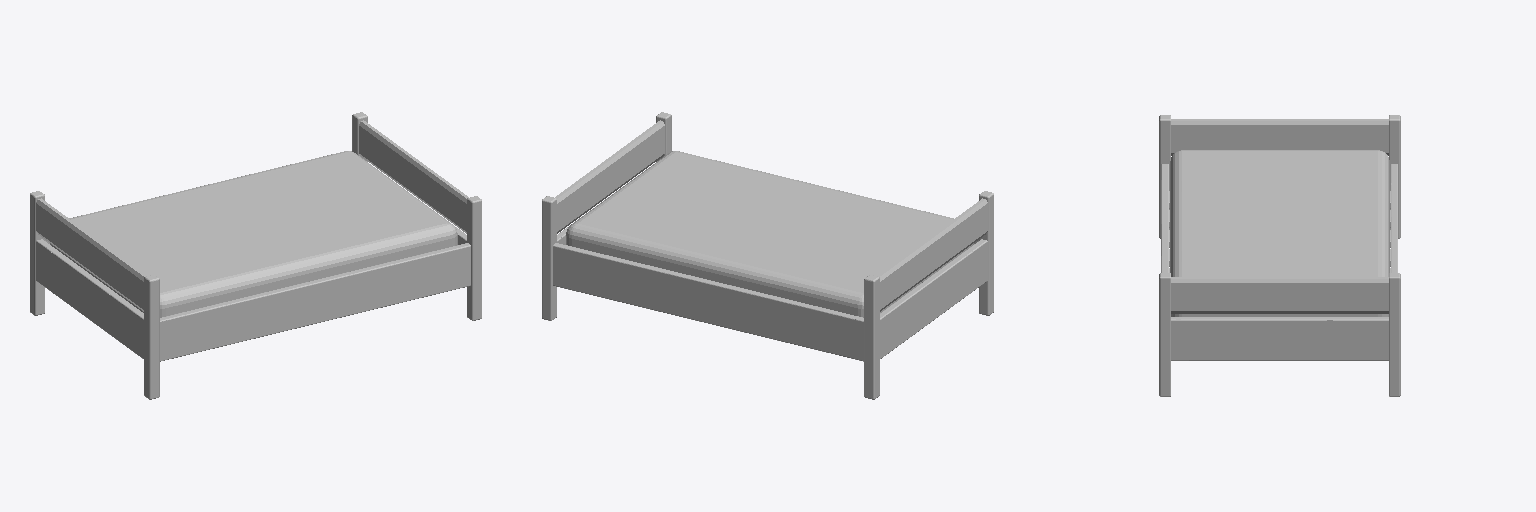
Rendered from bed.obj.
3 renders of one model, left to right at view 1: azimuth 30°, elevation 25°; view 2: azimuth 150°, elevation 25°; view 3: azimuth 270°, elevation 25°, orthographic.
Bounding box in the file's own units: 6135 × 2109 × 3847.